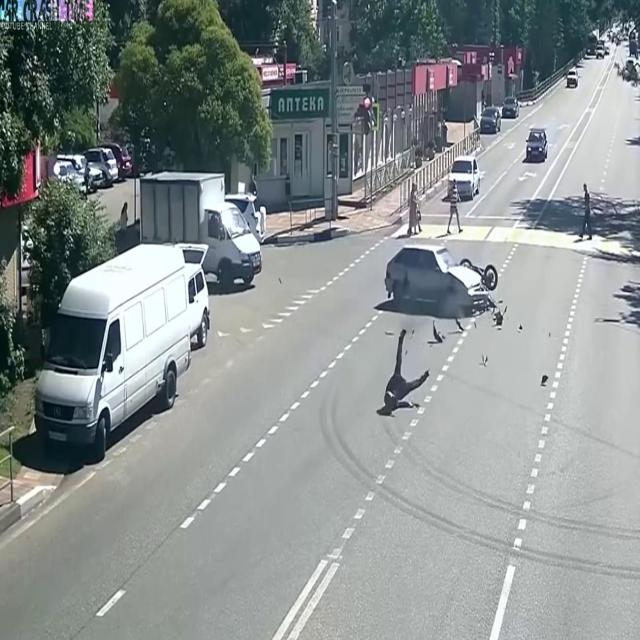accident: (383, 231, 505, 329)
non_accident: (26, 138, 270, 475)
